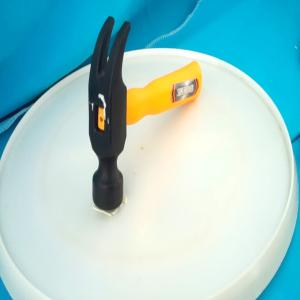martelo: (89, 14, 203, 211)
